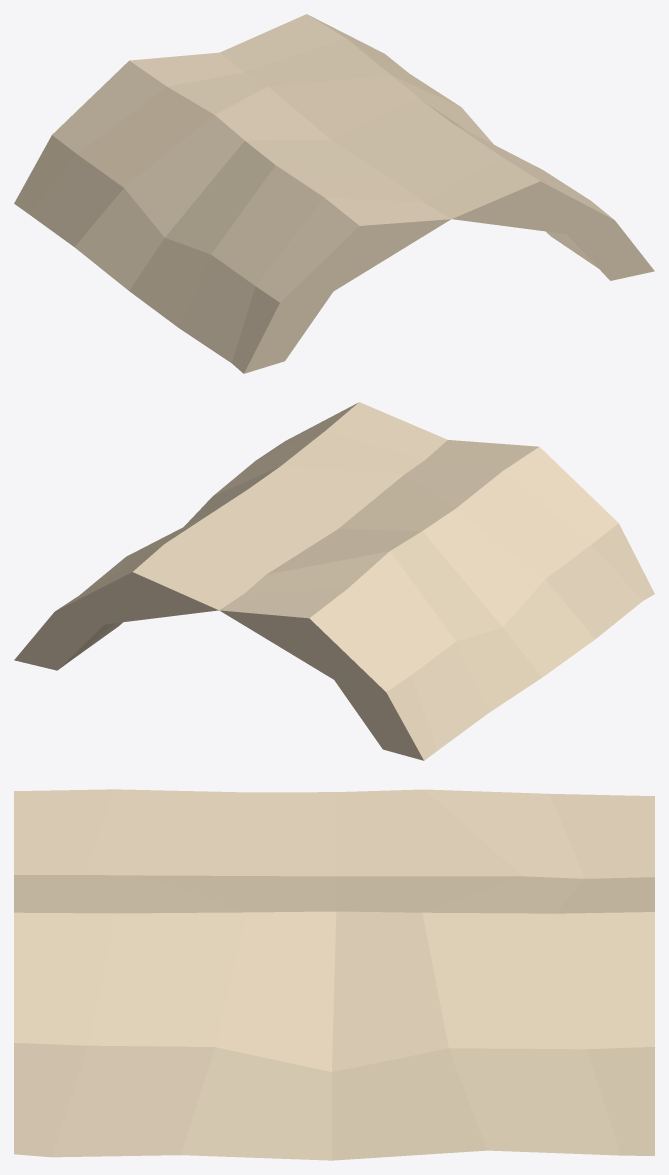
File: Skepienie.fbx
The picture shows the model from 3 angles, top to bottom: view 1: azimuth 30°, elevation 25°; view 2: azimuth 150°, elevation 25°; view 3: azimuth 270°, elevation 25°; orthographic projection. The views are drawn at different scales.
Parts seen in each view (by area): view 1: Sklepienie; view 2: Sklepienie; view 3: Sklepienie.
Boxes of the visible parts, x1,y1,x2,y2 form: Sklepienie: (14, 14, 654, 373); Sklepienie: (14, 402, 654, 760); Sklepienie: (14, 789, 654, 1160).
Bounding box in the file's own units: 567 × 162 × 546.
